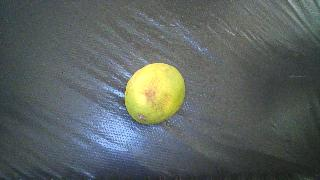DESECHO: (125, 63, 185, 124)
